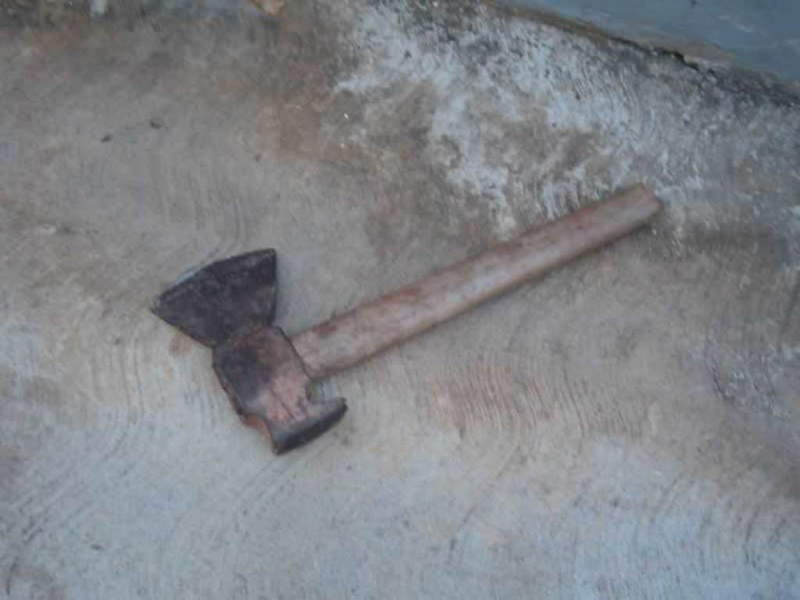axe: (137, 243, 440, 464)
